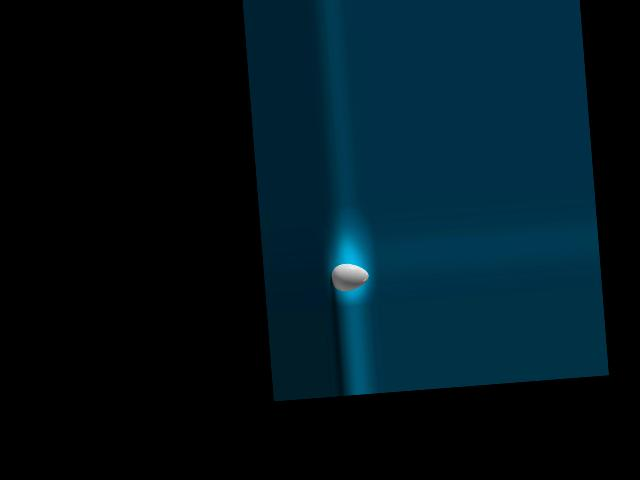egg: (329, 262, 369, 292)
